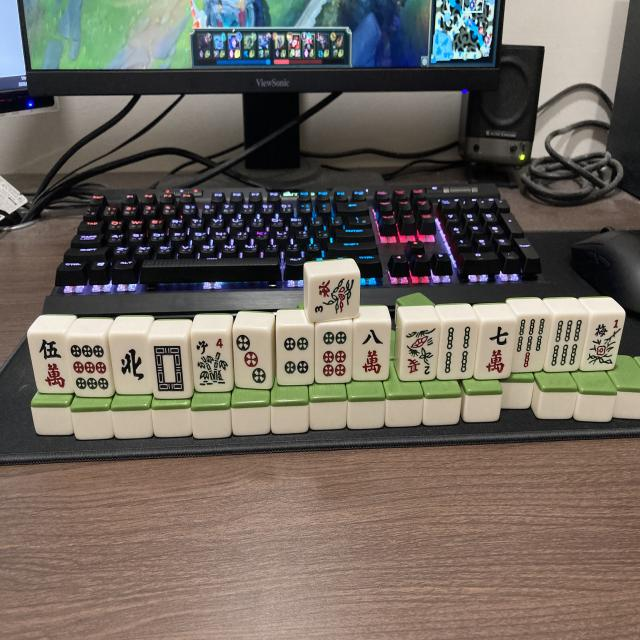bai: (150, 340, 193, 398)
f1: (582, 317, 624, 372)
f4: (191, 334, 234, 391)
ff2: (400, 326, 440, 380)
ff3: (310, 273, 360, 321)
m5: (28, 335, 72, 394)
m7: (475, 323, 515, 380)
m8: (352, 324, 390, 382)
north: (110, 335, 153, 395)
s4: (438, 323, 480, 380)
s6: (544, 318, 588, 373)
s7: (512, 317, 550, 373)
t3: (233, 329, 274, 389)
t4: (276, 328, 314, 384)
t6: (316, 327, 354, 384)
t9: (69, 338, 116, 396)
